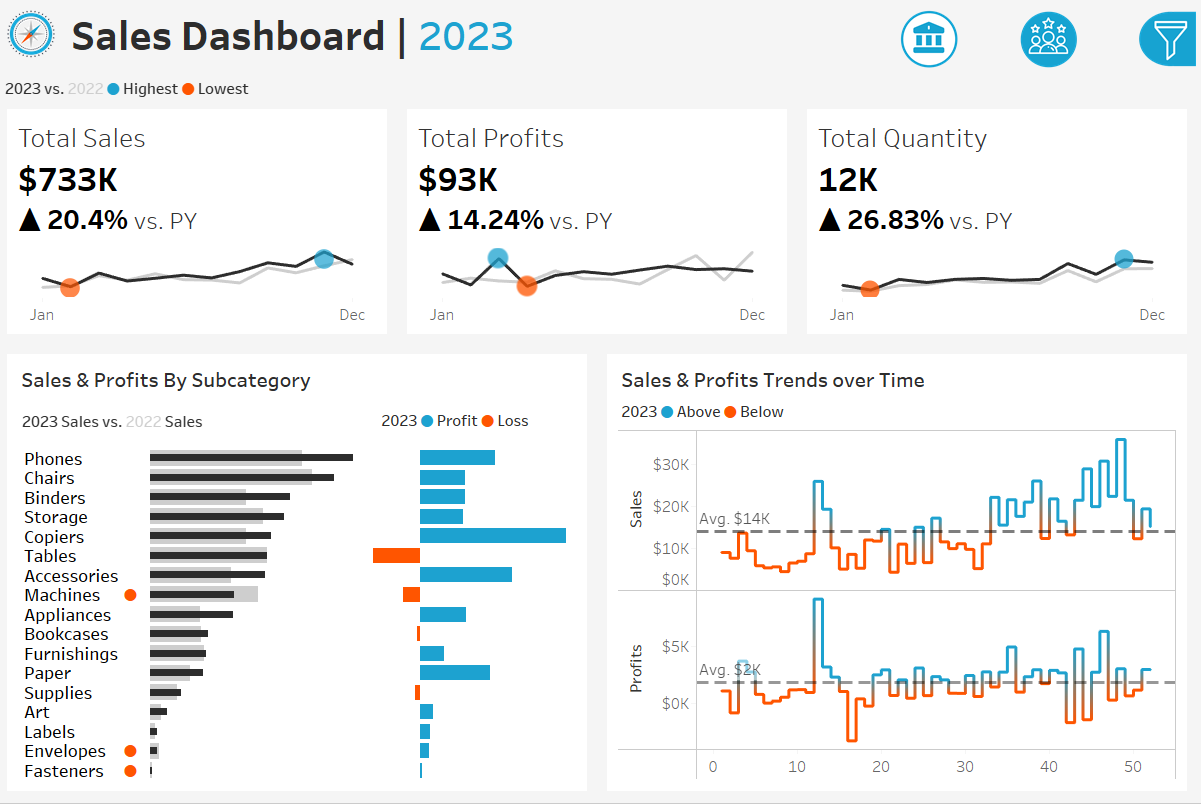

The page's visual inventory and layout, read from the dashboard file:
{"tool":"tableau","page":{"name":"Sales Dashboard","canvas":[1200,800],"ordinal":1},"visuals":[{"type":"image","param":"Image/Icon - Logo.png","box":[0,0,67,66]},{"type":"text","box":[67,0,776,66]},{"type":"dashboard-object","box":[873,5,119,66]},{"type":"dashboard-object","box":[992,5,118,66]},{"type":"blank","box":[911,10,280,60]},{"type":"worksheet","title":"Legends KPI","mark":"Automatic","box":[0,66,1200,42]},{"type":"text","box":[911,70,280,32]},{"type":"parameter","param":"[Parameters].[Parameter 1]","box":[911,102,280,56]},{"type":"worksheet","title":"KPIs Sales","mark":"Automatic","rows":["Calculation_949696595720093700"],"cols":["Order Date"],"box":[0,108,400,235]},{"type":"worksheet","title":"KPIs Profits","mark":"Automatic","rows":["MIN/MAX Sales (copy)_949696595737305106"],"cols":["Order Date"],"box":[400,108,400,235]},{"type":"worksheet","title":"KPIs Quantity","mark":"Automatic","rows":["MIN/MAX Sales (copy)_949696595746398232"],"cols":["Order Date"],"box":[800,108,400,235]},{"type":"text","box":[911,158,280,32]},{"type":"filter","title":"KPIs Sales","param":"[federated.1u9vuan1mg2wu017yoyo81pq22uz].[none:Category:nk]","box":[911,190,280,61]},{"type":"filter","title":"KPIs Sales","param":"[federated.1u9vuan1mg2wu017yoyo81pq22uz].[none:Sub-Category:nk]","box":[911,251,280,61]},{"type":"blank","box":[911,312,280,57]},{"type":"text","box":[17,360,566,36]},{"type":"text","box":[617,360,566,36]},{"type":"text","box":[911,369,280,32]},{"type":"worksheet","title":"Legends Subcategory","mark":"Automatic","box":[17,396,360,47]},{"type":"text","box":[377,396,206,47]},{"type":"text","box":[617,396,566,29]},{"type":"filter","title":"KPIs Sales","param":"[federated.1u9vuan1mg2wu017yoyo81pq22uz].[none:Region:nk]","box":[911,401,280,61]},{"type":"worksheet","title":"Weekly Trend","mark":"Automatic","rows":["Calculation_949696595712704512","Calculation_949696595731750923"],"cols":["Order Date"],"box":[617,425,566,358]},{"type":"worksheet","title":"Subcategory Comparison","mark":"Bar","rows":["Sub-Category","Calculation_949696595766890521"],"cols":["Calculation_949696595713499137","Calculation_949696595712704512","Calculation_949696595731750923"],"box":[17,443,566,340]},{"type":"filter","title":"KPIs Sales","param":"[federated.1u9vuan1mg2wu017yoyo81pq22uz].[none:State:nk]","box":[911,462,280,61]},{"type":"filter","title":"KPIs Sales","param":"[federated.1u9vuan1mg2wu017yoyo81pq22uz].[none:City:nk]","box":[911,523,280,61]}]}

Visuals, with their boxes in screenshot pixels (x1, y1, x2, y2), scaled from the page's 1200x800 canvas onto the 1201x804 screenshot:
image: l=0, t=0, r=67, b=66
text: l=67, t=0, r=844, b=66
dashboard-object: l=874, t=5, r=993, b=71
dashboard-object: l=993, t=5, r=1111, b=71
blank: l=912, t=10, r=1192, b=70
"Legends KPI" worksheet: l=0, t=66, r=1200, b=109
text: l=912, t=70, r=1192, b=103
parameter: l=912, t=103, r=1192, b=159
"KPIs Sales" worksheet: l=0, t=109, r=400, b=345
"KPIs Profits" worksheet: l=400, t=109, r=801, b=345
"KPIs Quantity" worksheet: l=801, t=109, r=1200, b=345
text: l=912, t=159, r=1192, b=191
"KPIs Sales" filter: l=912, t=191, r=1192, b=252
"KPIs Sales" filter: l=912, t=252, r=1192, b=314
blank: l=912, t=314, r=1192, b=371
text: l=17, t=362, r=583, b=398
text: l=618, t=362, r=1184, b=398
text: l=912, t=371, r=1192, b=403
"Legends Subcategory" worksheet: l=17, t=398, r=377, b=445
text: l=377, t=398, r=583, b=445
text: l=618, t=398, r=1184, b=427
"KPIs Sales" filter: l=912, t=403, r=1192, b=464
"Weekly Trend" worksheet: l=618, t=427, r=1184, b=787
"Subcategory Comparison" worksheet (Bar marks): l=17, t=445, r=583, b=787
"KPIs Sales" filter: l=912, t=464, r=1192, b=526
"KPIs Sales" filter: l=912, t=526, r=1192, b=587
